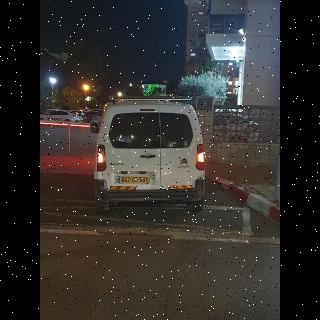LicensePlate: (121, 177, 150, 183)
